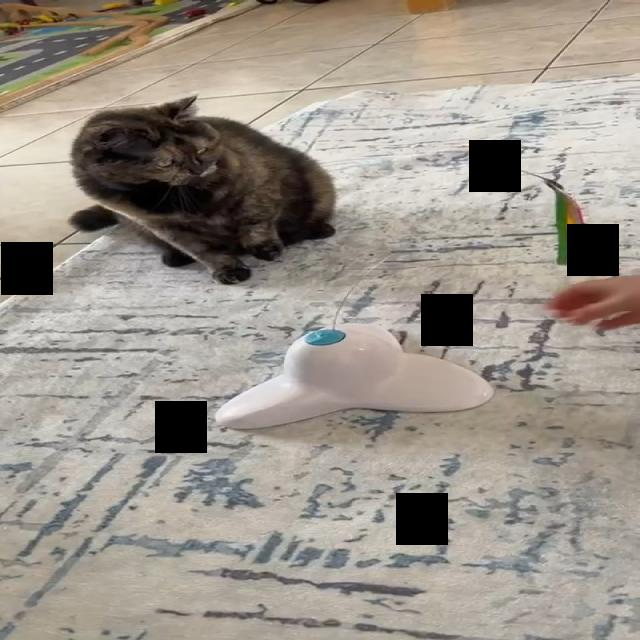authorized: (67, 93, 337, 284)
